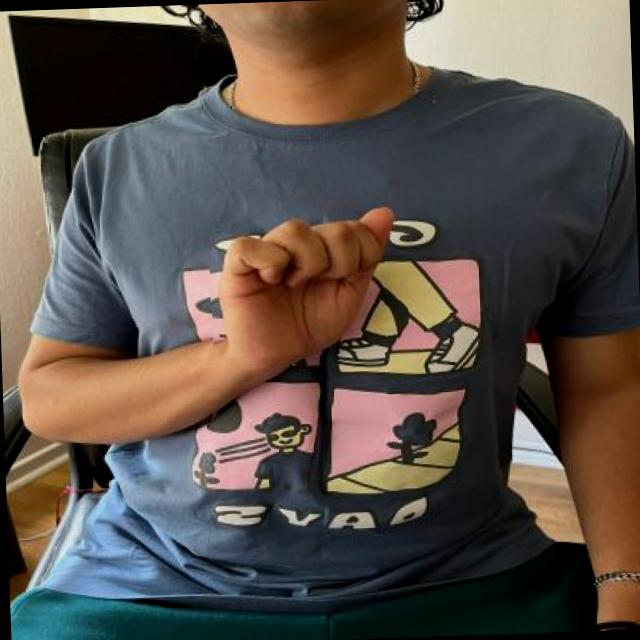A: (206, 197, 409, 358)
